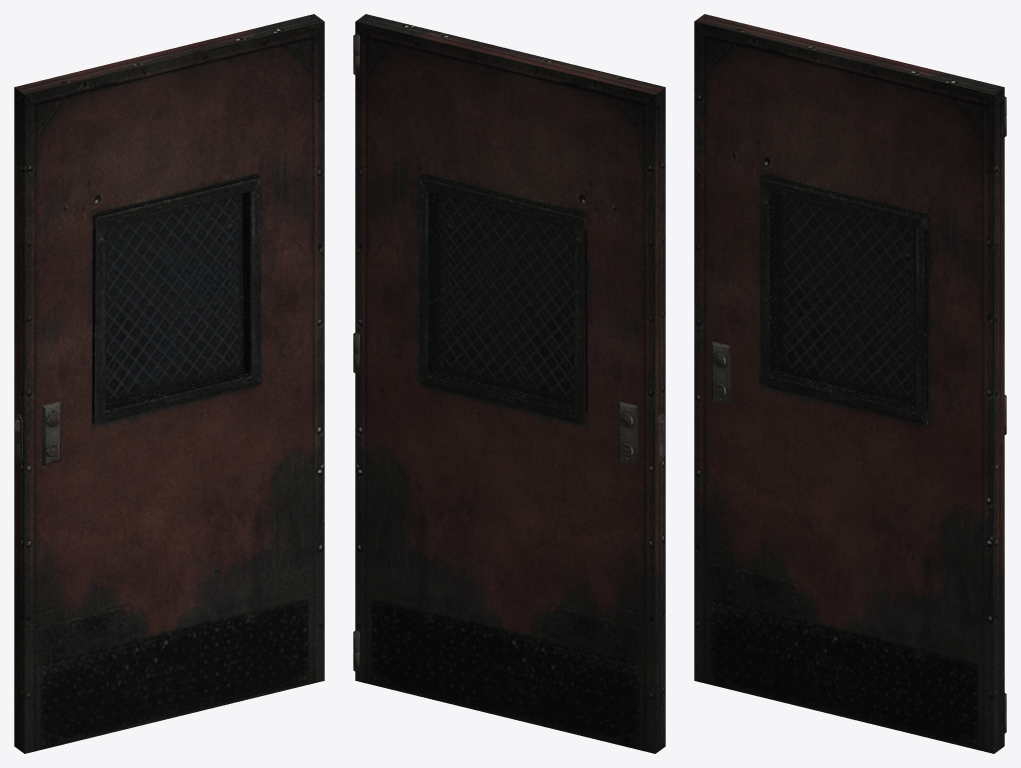
Rendered from door_4.fbx.
3 renders of one model, left to right at view 1: azimuth 30°, elevation 25°; view 2: azimuth 150°, elevation 25°; view 3: azimuth 330°, elevation 25°, orthographic.
Visible parts, largest first — view 1: door_4; view 2: door_4; view 3: door_4.
Boxes of the visible parts, <box> form: door_4: <box>14,14,324,753</box>; door_4: <box>353,14,665,753</box>; door_4: <box>694,14,1006,753</box>.
Bounding box in the file's own units: 101 × 210 × 9.33.
